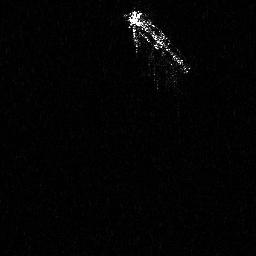ship: (122, 7, 192, 92)
